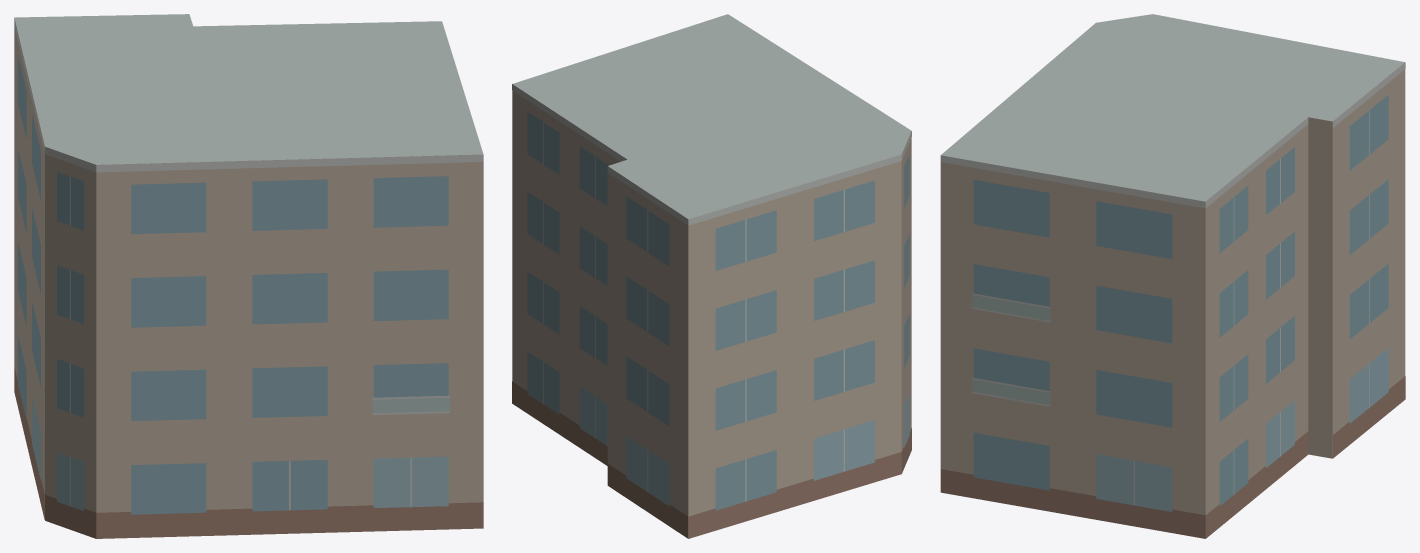
File: survey-upis-33037005.glb
3 views of the same model, side by side, from view 1: azimuth 30°, elevation 25°; view 2: azimuth 150°, elevation 25°; view 3: azimuth 270°, elevation 25° (orthographic). The views are drawn at different scales.
Visible parts, largest first — view 1: survey-upis-33037005.tmp; view 2: survey-upis-33037005.tmp; view 3: survey-upis-33037005.tmp.
Boxes of the visible parts, bbox=[...] form: survey-upis-33037005.tmp: bbox=[14, 14, 483, 538]; survey-upis-33037005.tmp: bbox=[512, 14, 911, 538]; survey-upis-33037005.tmp: bbox=[940, 14, 1405, 538].
Size of the model in its own units: 14.57 by 12.2 by 15.25.
